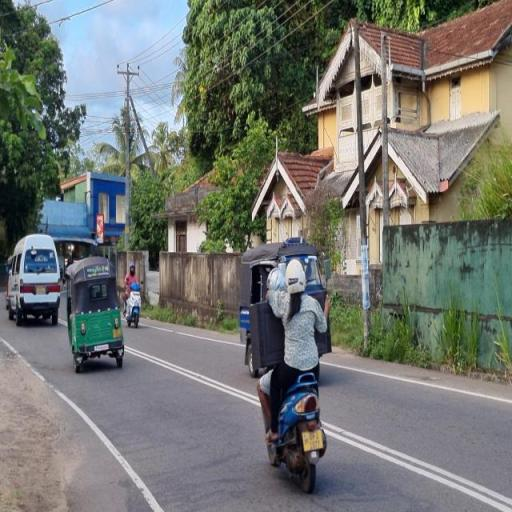double_white_line: (318, 417, 512, 510), (0, 334, 45, 382)
